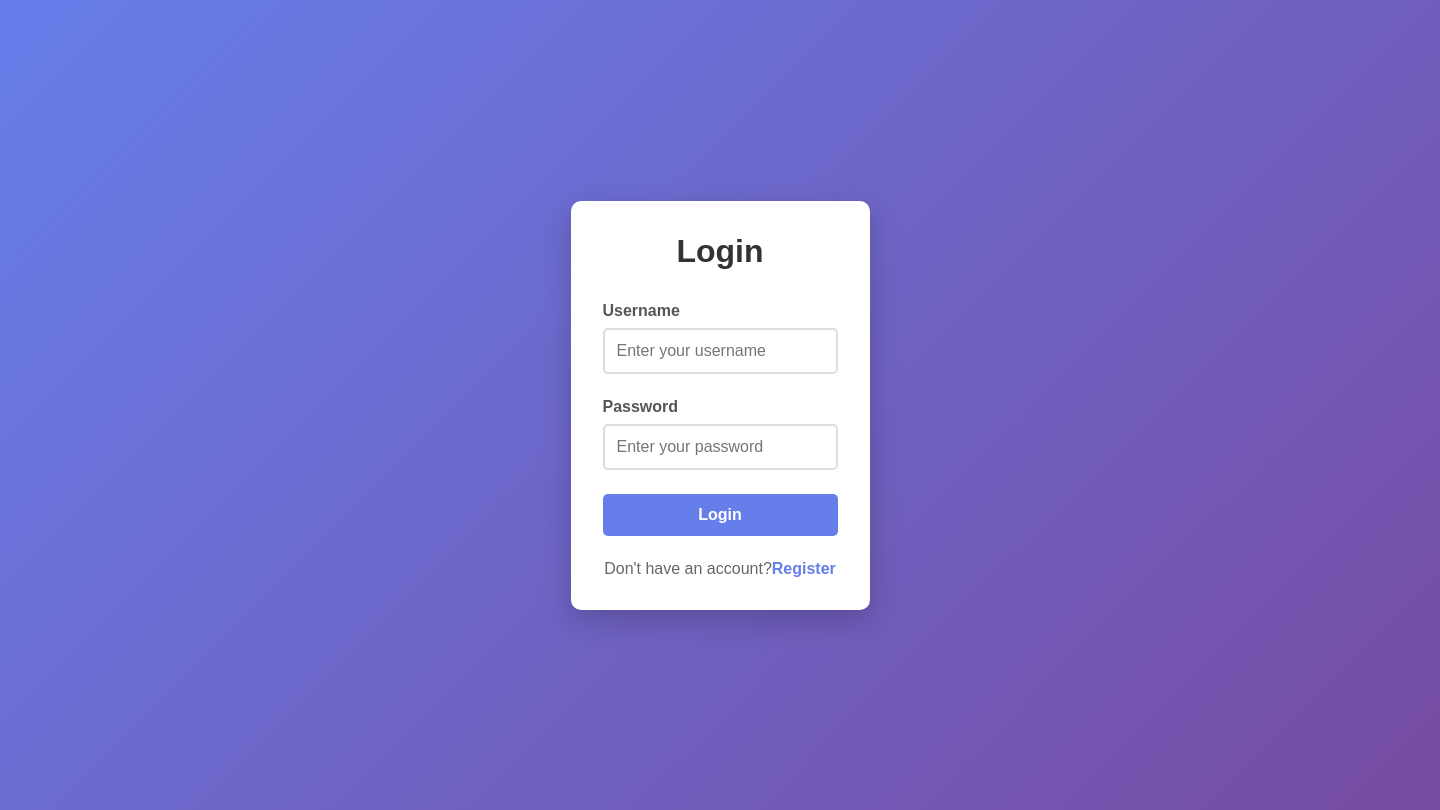
Test: Login Component › preenche formulário e submete com sucesso
Preencher formulário
Type "testuser" into the field labelled "Username".
click(720, 350); type("testuser")  # box [602, 328, 838, 374]
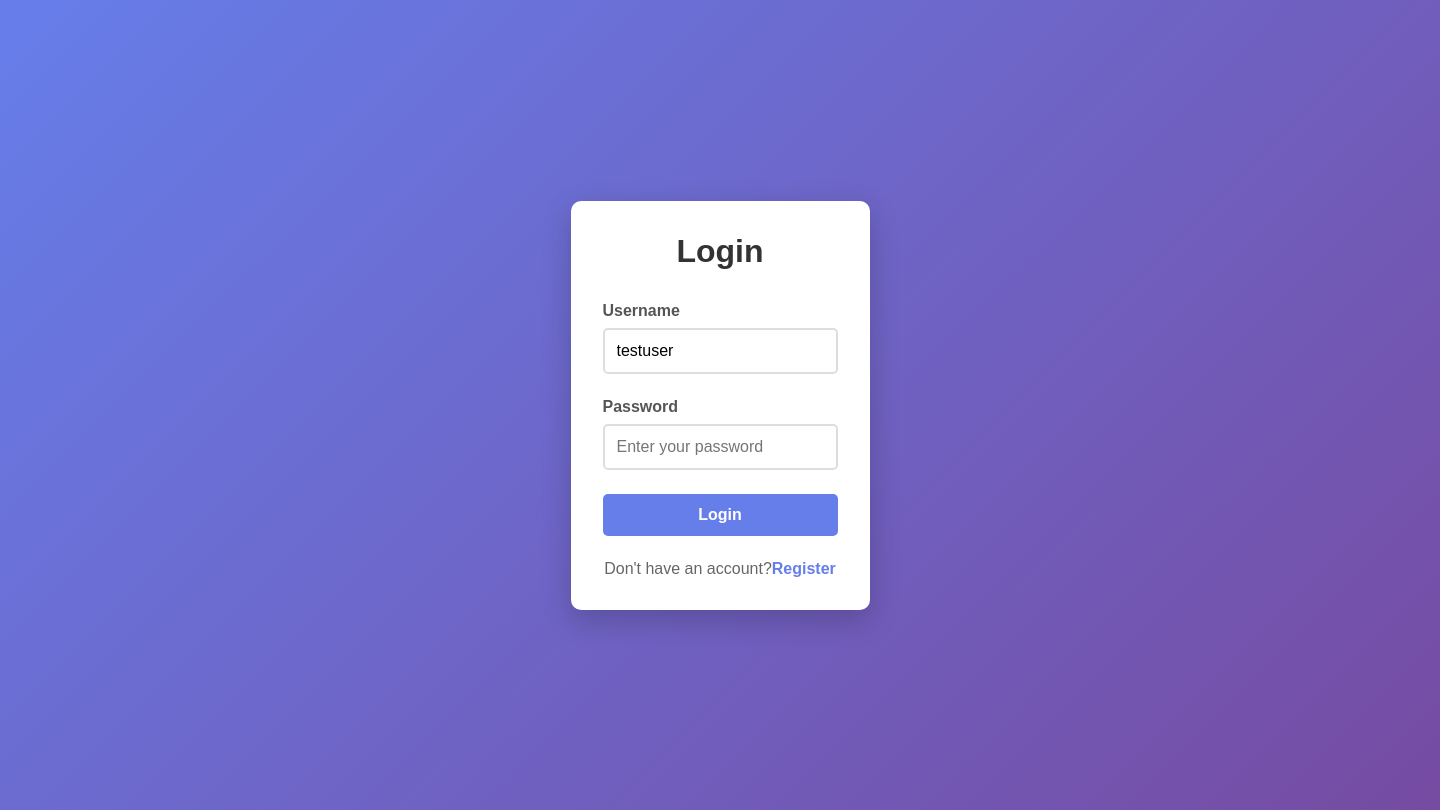
Type "password123" into the password field labelled "Password".
click(720, 446); type("password123")  # box [602, 424, 838, 470]
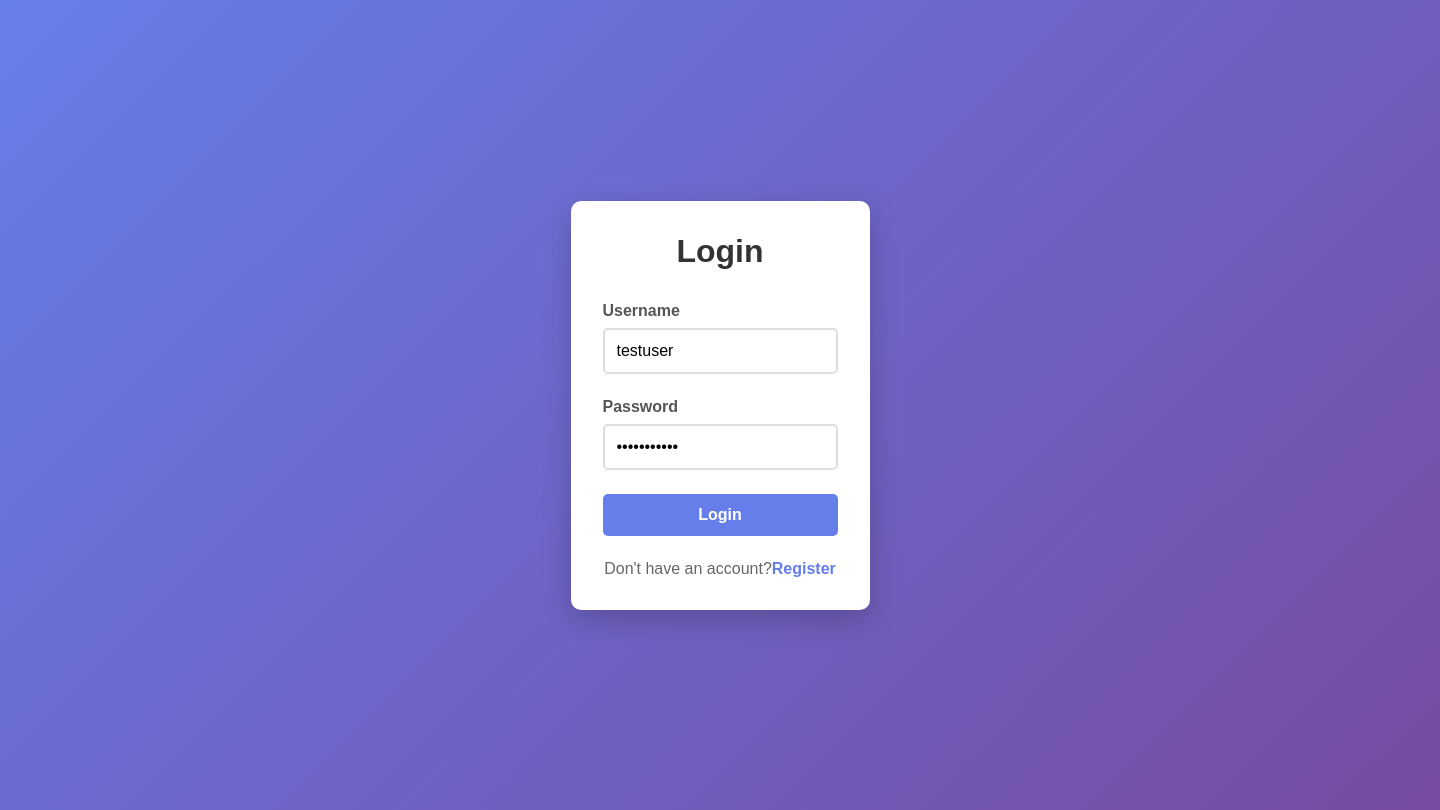
Click the button "Login".
click(720, 514)  # box [602, 494, 838, 536]
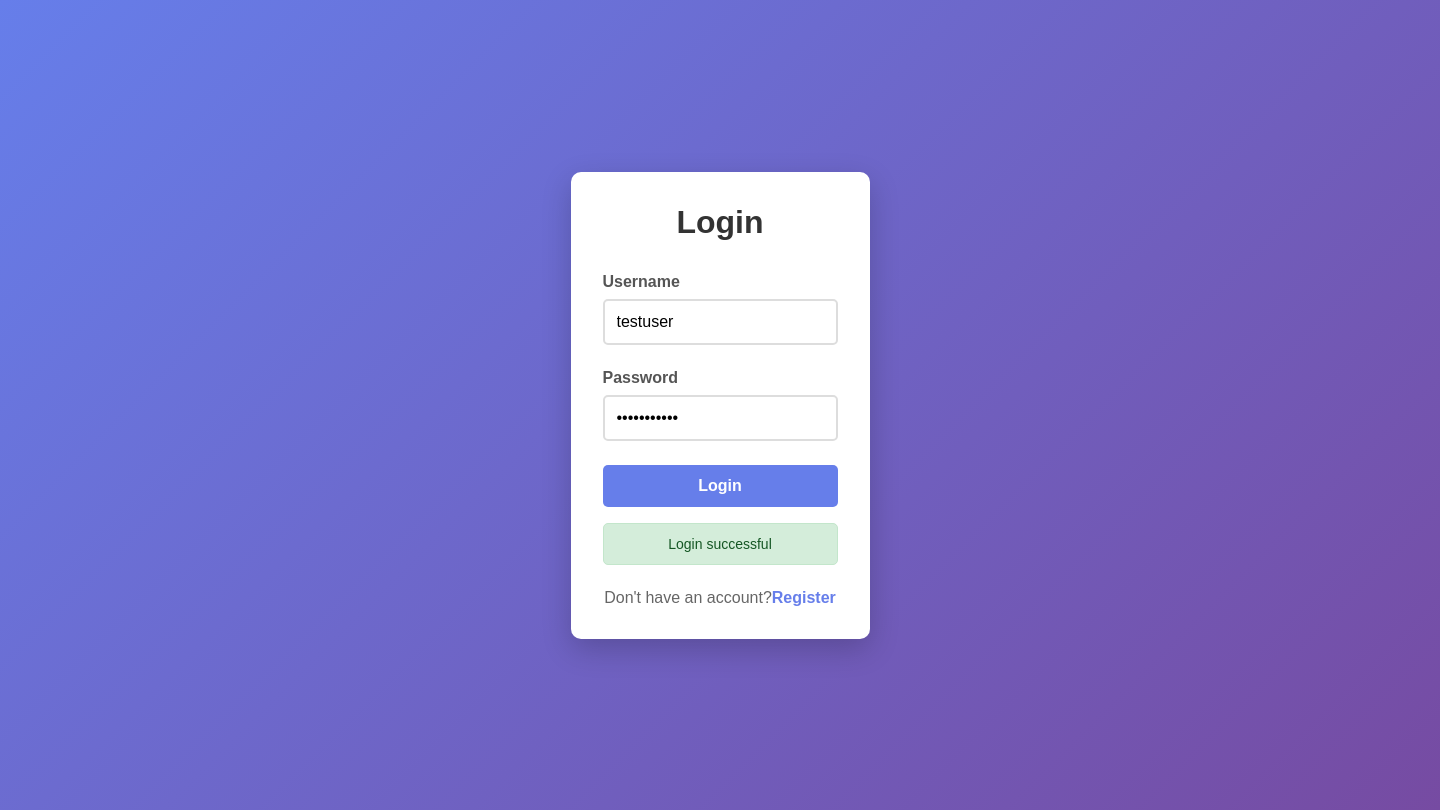
Check: the text "Login successful" is shown, box [602, 522, 838, 564]
